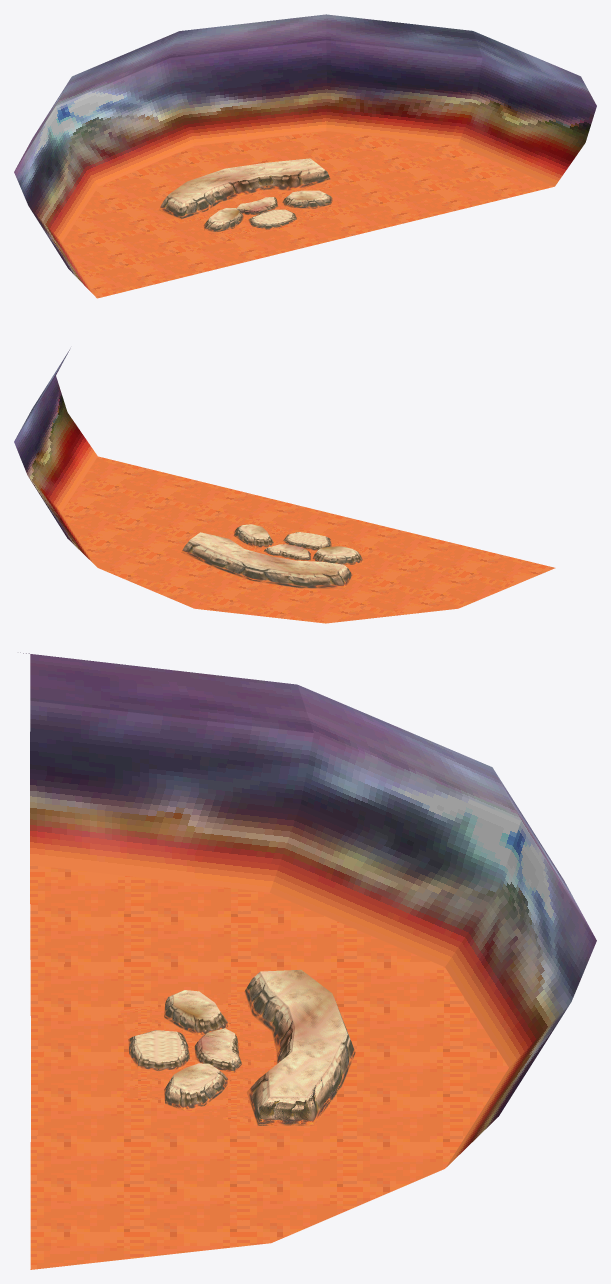
File: AlienBoss.glb
The picture shows the model from 3 angles, top to bottom: view 1: azimuth 30°, elevation 25°; view 2: azimuth 150°, elevation 25°; view 3: azimuth 270°, elevation 25°; orthographic projection. The views are drawn at different scales.
Visible parts, largest first — view 1: AlienBoss_33, AlienBoss_Alpha_22, AlienBoss_Alpha_21, AlienBoss_Alpha_15, AlienBoss_Alpha_16, AlienBoss_Alpha_23, AlienBoss_Alpha_20, AlienBoss_Alpha_14, AlienBoss_Alpha_17, AlienBoss_Alpha_9, AlienBoss_Alpha_10, AlienBoss_Alpha_19 (+11 smaller); view 2: AlienBoss_33, AlienBoss_Alpha_23, AlienBoss_32, AlienBoss_Alpha_17, AlienBoss_30, AlienBoss_29, AlienBoss_27, AlienBoss_26, AlienBoss_Alpha_22; view 3: AlienBoss_33, AlienBoss_Alpha_18, AlienBoss_Alpha_12, AlienBoss_Alpha_19, AlienBoss_Alpha_13, AlienBoss_Alpha_6, AlienBoss_Alpha_20, AlienBoss_32, AlienBoss_Alpha_7, AlienBoss_Alpha_14, AlienBoss_Alpha_21, AlienBoss_31 (+5 smaller).
Boxes of the visible parts, x1,y1,x2,y2 form: AlienBoss_33: (62, 131, 554, 298); AlienBoss_Alpha_22: (326, 79, 475, 145); AlienBoss_Alpha_21: (178, 79, 326, 145); AlienBoss_Alpha_15: (170, 40, 326, 96); AlienBoss_Alpha_16: (326, 40, 482, 96); AlienBoss_Alpha_23: (458, 97, 584, 186); AlienBoss_Alpha_20: (68, 97, 194, 186); AlienBoss_Alpha_14: (56, 58, 177, 142); AlienBoss_Alpha_17: (476, 58, 596, 142); AlienBoss_Alpha_9: (170, 14, 326, 57); AlienBoss_Alpha_10: (326, 14, 482, 57); AlienBoss_Alpha_19: (28, 143, 98, 242); AlienBoss_33: (62, 456, 555, 623); AlienBoss_Alpha_23: (27, 412, 97, 511); AlienBoss_32: (190, 524, 354, 573); AlienBoss_Alpha_17: (14, 376, 67, 474); AlienBoss_30: (181, 539, 362, 588); AlienBoss_29: (217, 532, 353, 588); AlienBoss_27: (185, 532, 359, 579); AlienBoss_26: (219, 528, 351, 579); AlienBoss_Alpha_22: (28, 476, 97, 567); AlienBoss_33: (30, 865, 508, 1269); AlienBoss_Alpha_18: (30, 773, 300, 892); AlienBoss_Alpha_12: (30, 700, 313, 803); AlienBoss_Alpha_19: (270, 804, 498, 966); AlienBoss_Alpha_13: (301, 733, 520, 887); AlienBoss_Alpha_6: (30, 654, 313, 732); AlienBoss_Alpha_20: (445, 888, 570, 1067); AlienBoss_32: (136, 969, 345, 1096); AlienBoss_Alpha_7: (297, 685, 520, 820); AlienBoss_Alpha_14: (499, 821, 596, 1001); AlienBoss_Alpha_21: (446, 1003, 570, 1167); AlienBoss_31: (137, 1017, 313, 1126).
Size of the model in its own units: 2008 by 533 by 1034.
35 materials, 35 textured.
